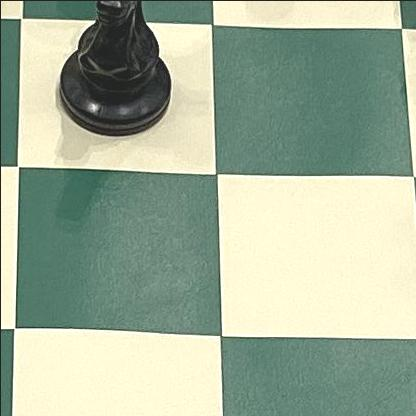black-knight: (20, 0, 195, 139)
